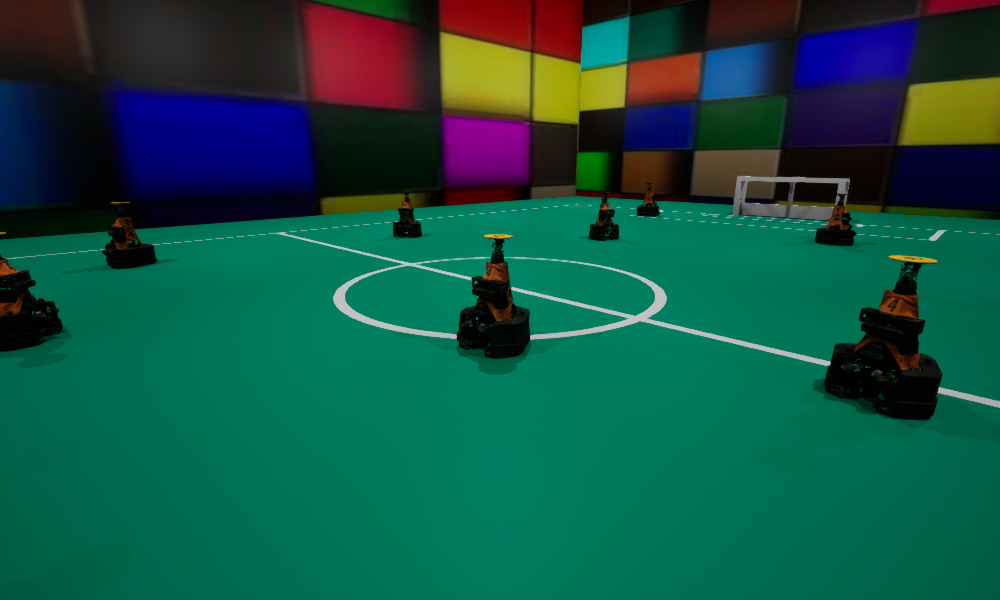o: (824, 255, 942, 418), (457, 234, 529, 357), (0, 232, 62, 351), (102, 202, 156, 267), (815, 194, 856, 245), (589, 192, 618, 240), (393, 191, 421, 236), (637, 183, 659, 216)
